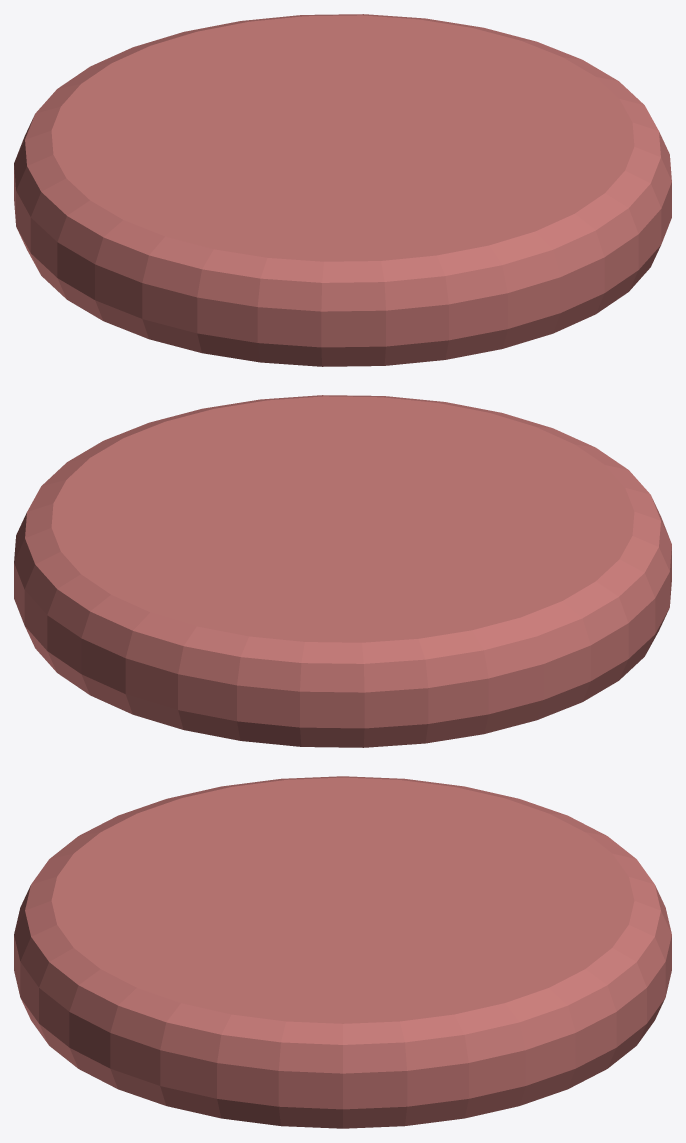
The model's file is food_pişmemiş.fbx.
3 views of the same model, one above another, from view 1: azimuth 30°, elevation 25°; view 2: azimuth 150°, elevation 25°; view 3: azimuth 270°, elevation 25° (orthographic).
Parts seen in each view (by area): view 1: meat; view 2: meat; view 3: meat.
Boxes of the visible parts, x1,y1,x2,y2 form: meat: (14,14,671,366); meat: (14,395,671,747); meat: (14,776,671,1128).
Size of the model in its own units: 176 by 30.58 by 176.
